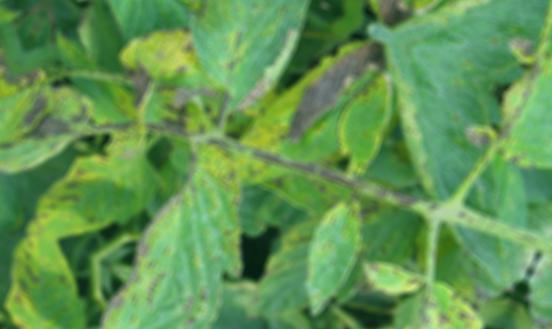Tomato leaf bacterial spot: (275, 17, 552, 289), (109, 127, 308, 329), (144, 0, 328, 138), (19, 112, 169, 269), (48, 0, 255, 85), (274, 185, 386, 327), (348, 252, 516, 329), (313, 64, 412, 185), (0, 52, 67, 190), (349, 248, 429, 313)
